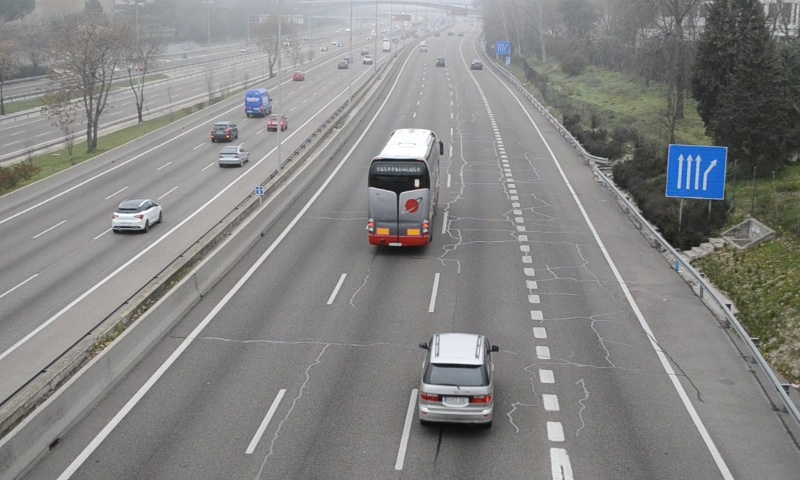bus: (366, 128, 439, 248)
car: (416, 332, 496, 428), (469, 58, 483, 70)
